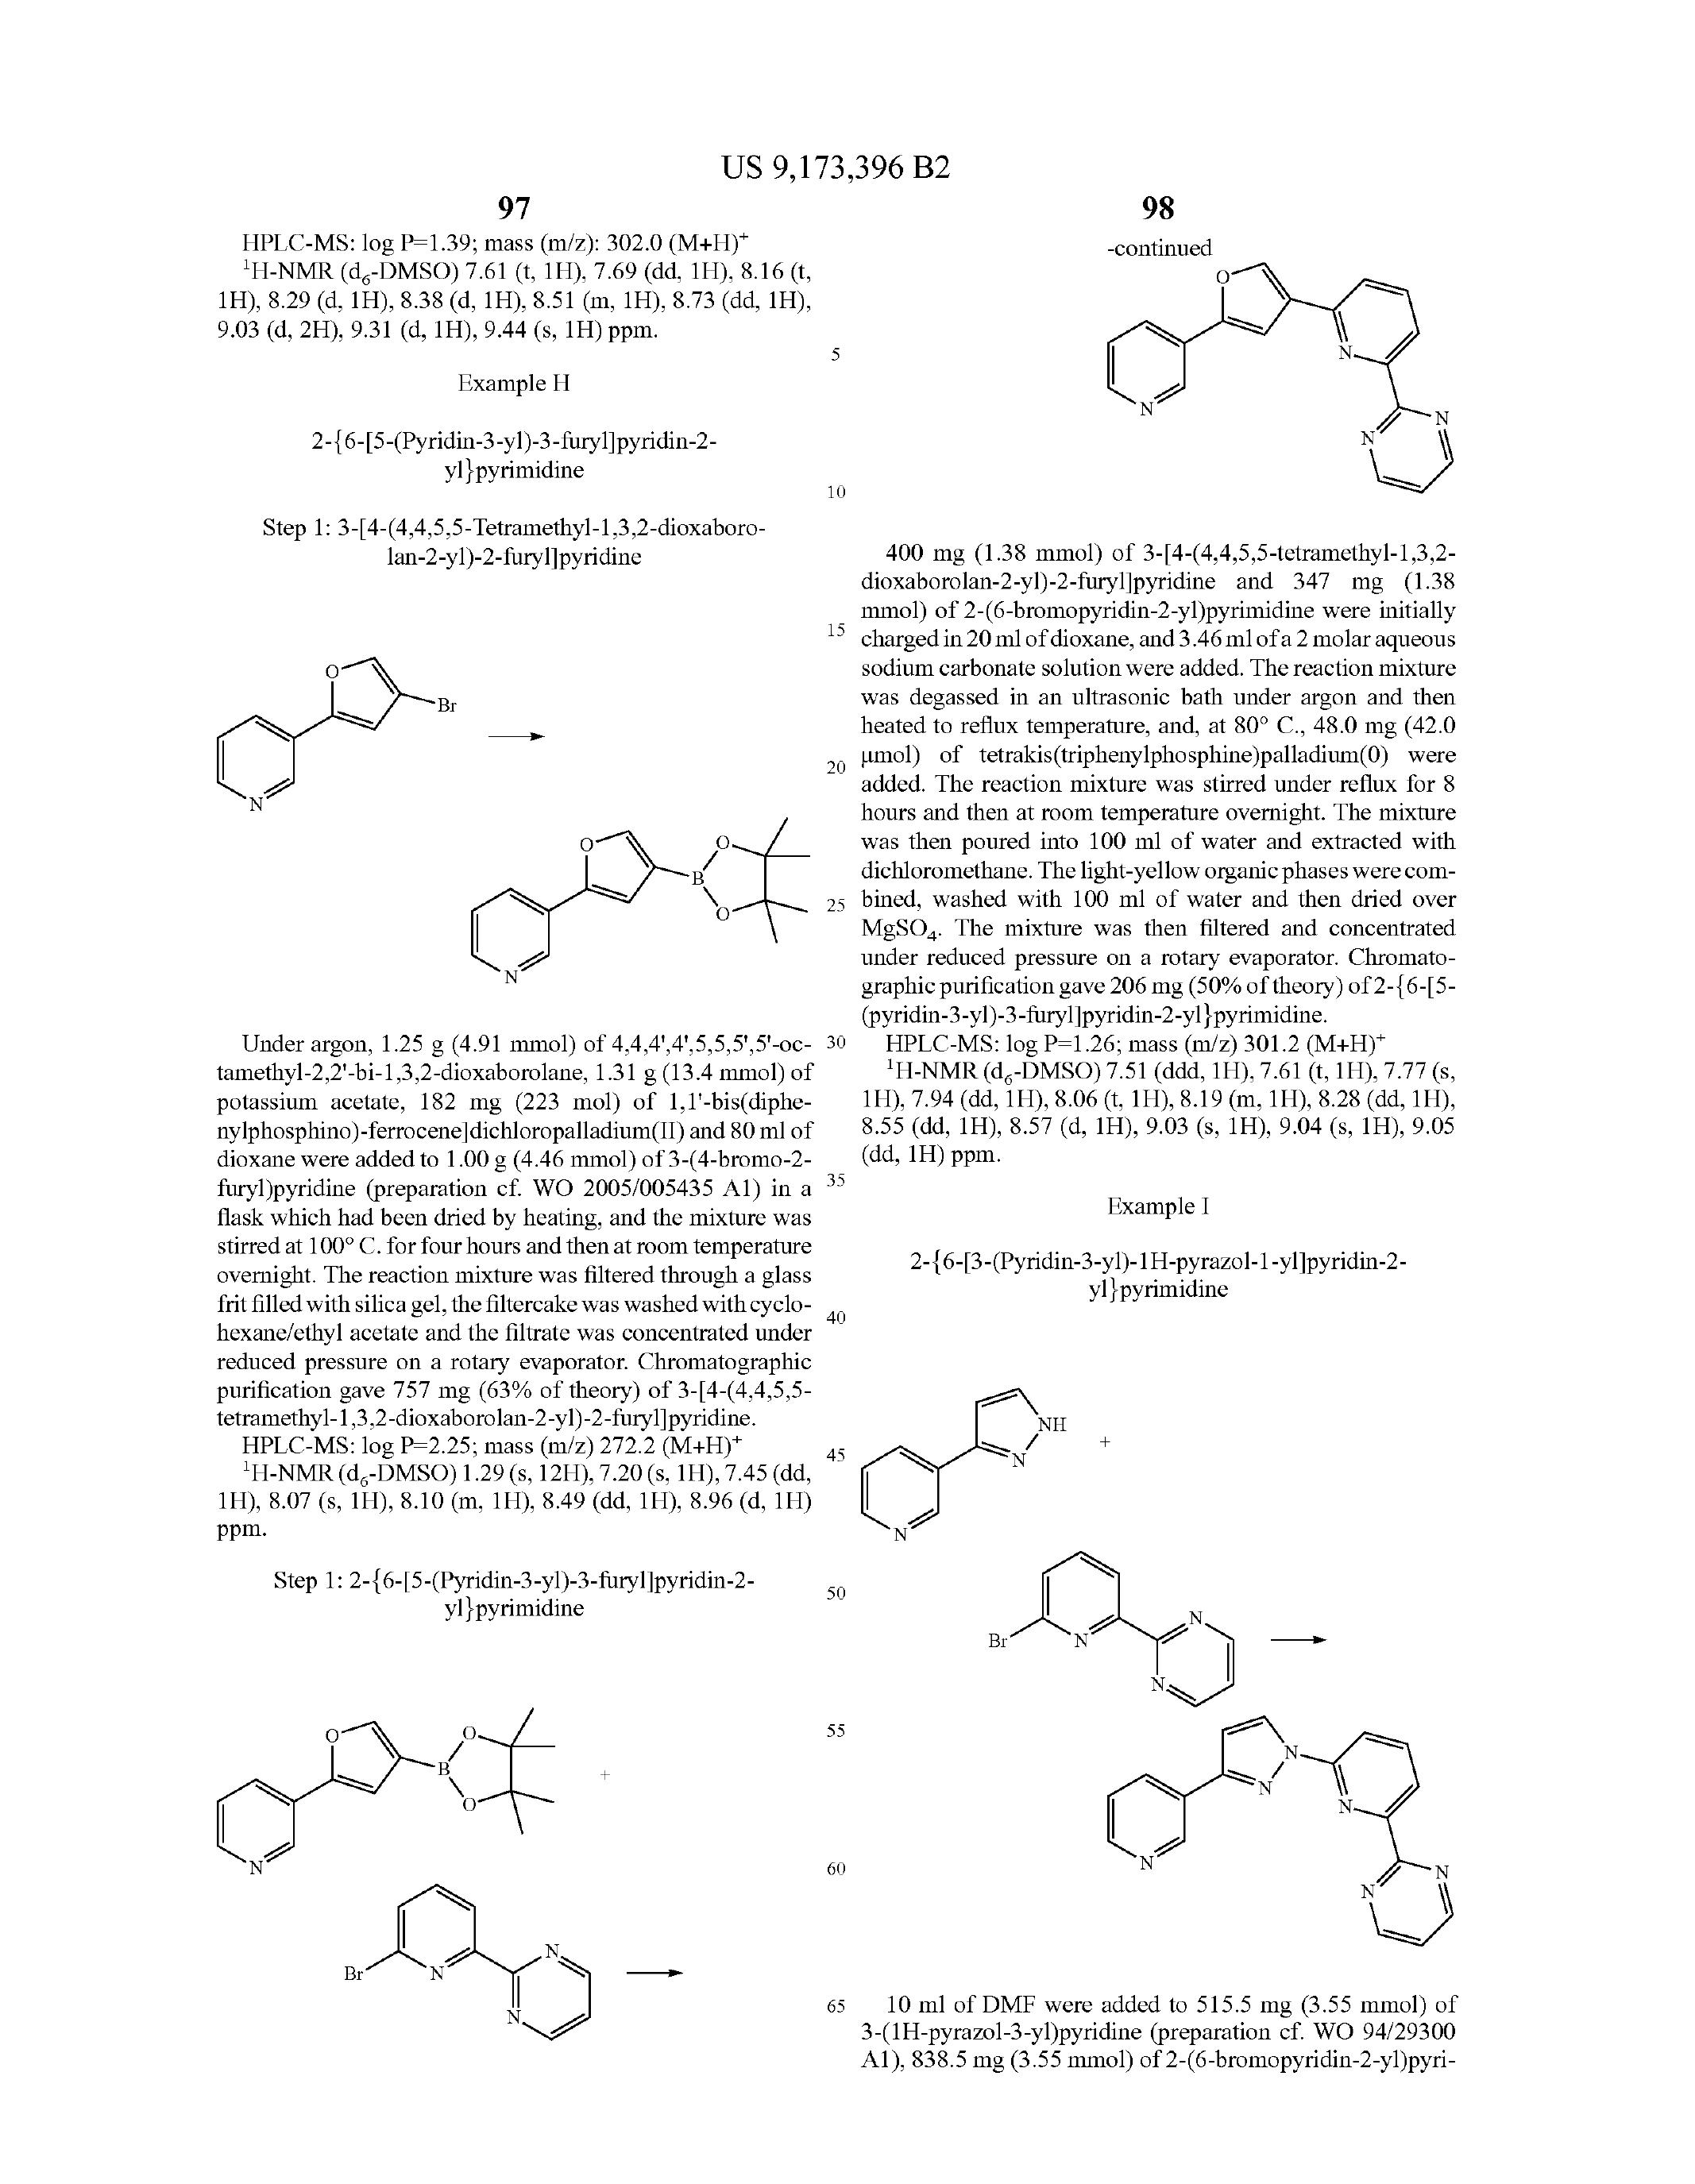reactions: (832, 1340, 1553, 1973)
